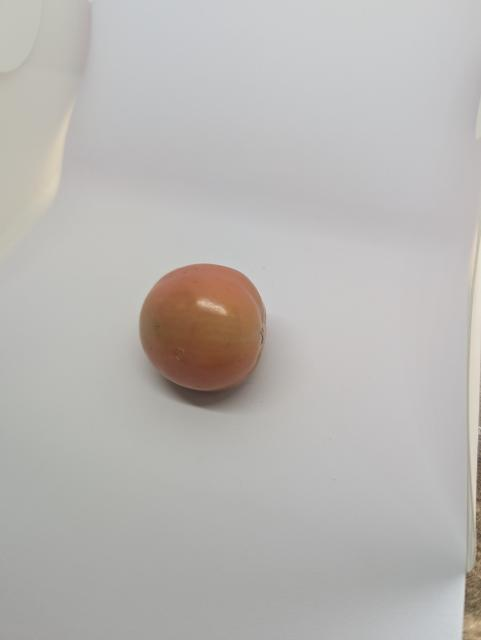turning: (133, 262, 272, 393)
